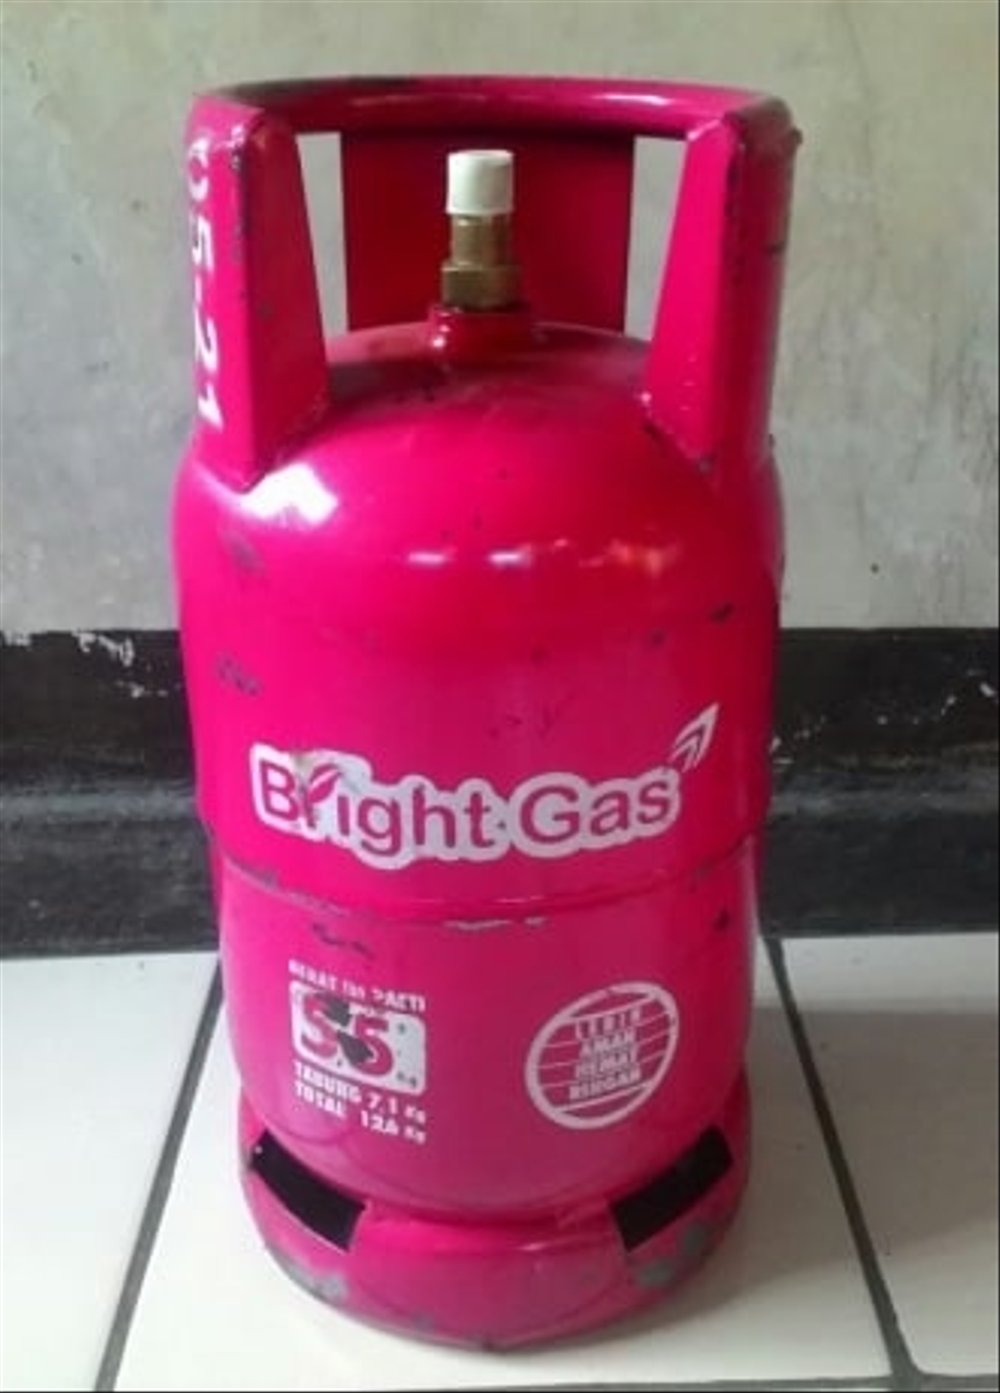bright_gas: (174, 72, 802, 1362)
